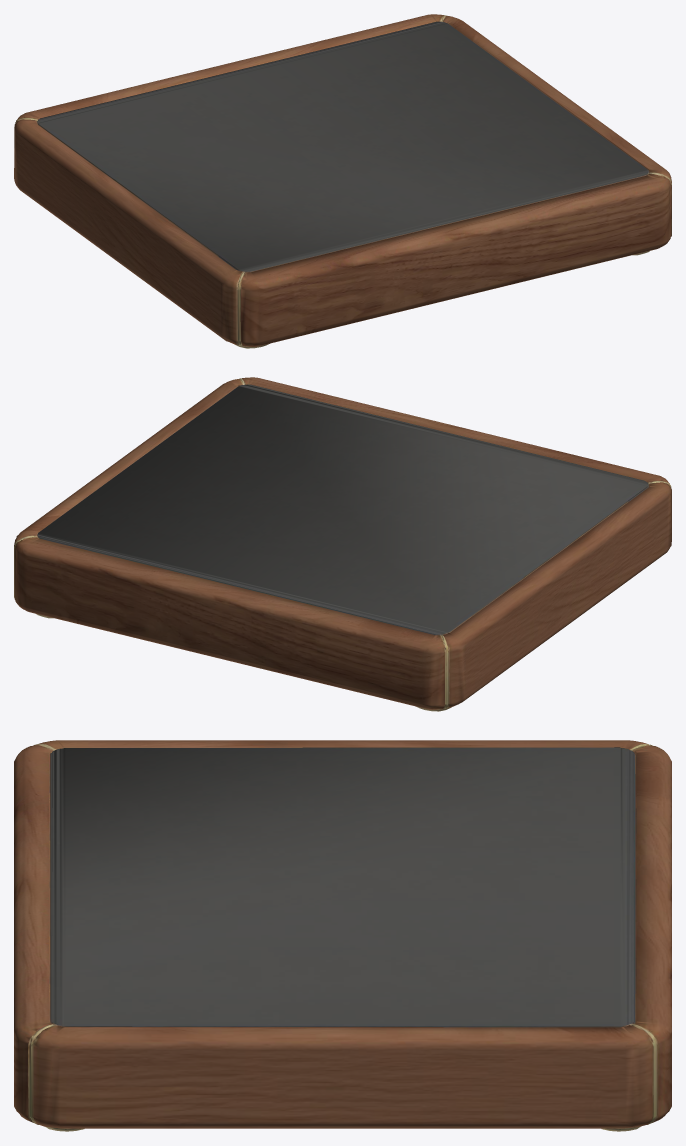
Rendered from asset_pack_item_glb-vd75nctc66ayy4vqeqfqd5j39n8bfe21-0-ks72w1nqrx9pj1g05r5h73zmdd8bf8d6.glb.
The picture shows the model from 3 angles, top to bottom: view 1: azimuth 30°, elevation 25°; view 2: azimuth 150°, elevation 25°; view 3: azimuth 270°, elevation 25°; orthographic projection. The views are drawn at different scales.
Parts seen in each view (by area): view 1: Walnut Console; view 2: Walnut Console; view 3: Walnut Console.
Boxes of the visible parts, bbox=[...] form: Walnut Console: bbox=[14, 14, 671, 348]; Walnut Console: bbox=[14, 377, 671, 711]; Walnut Console: bbox=[14, 740, 671, 1131].
Size of the model in its own units: 0.998 by 0.1699 by 0.916.
1 material, 1 textured.
